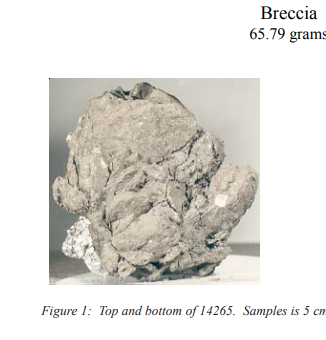Breccia: (53, 83, 261, 279), (103, 133, 221, 262)
